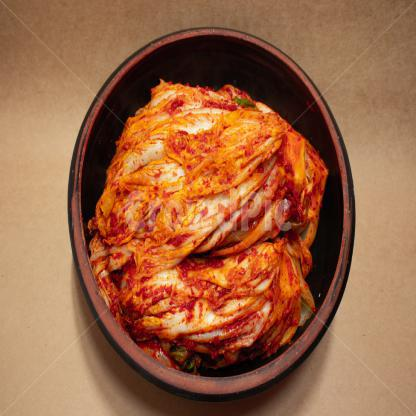kimchi: (101, 67, 332, 356)
